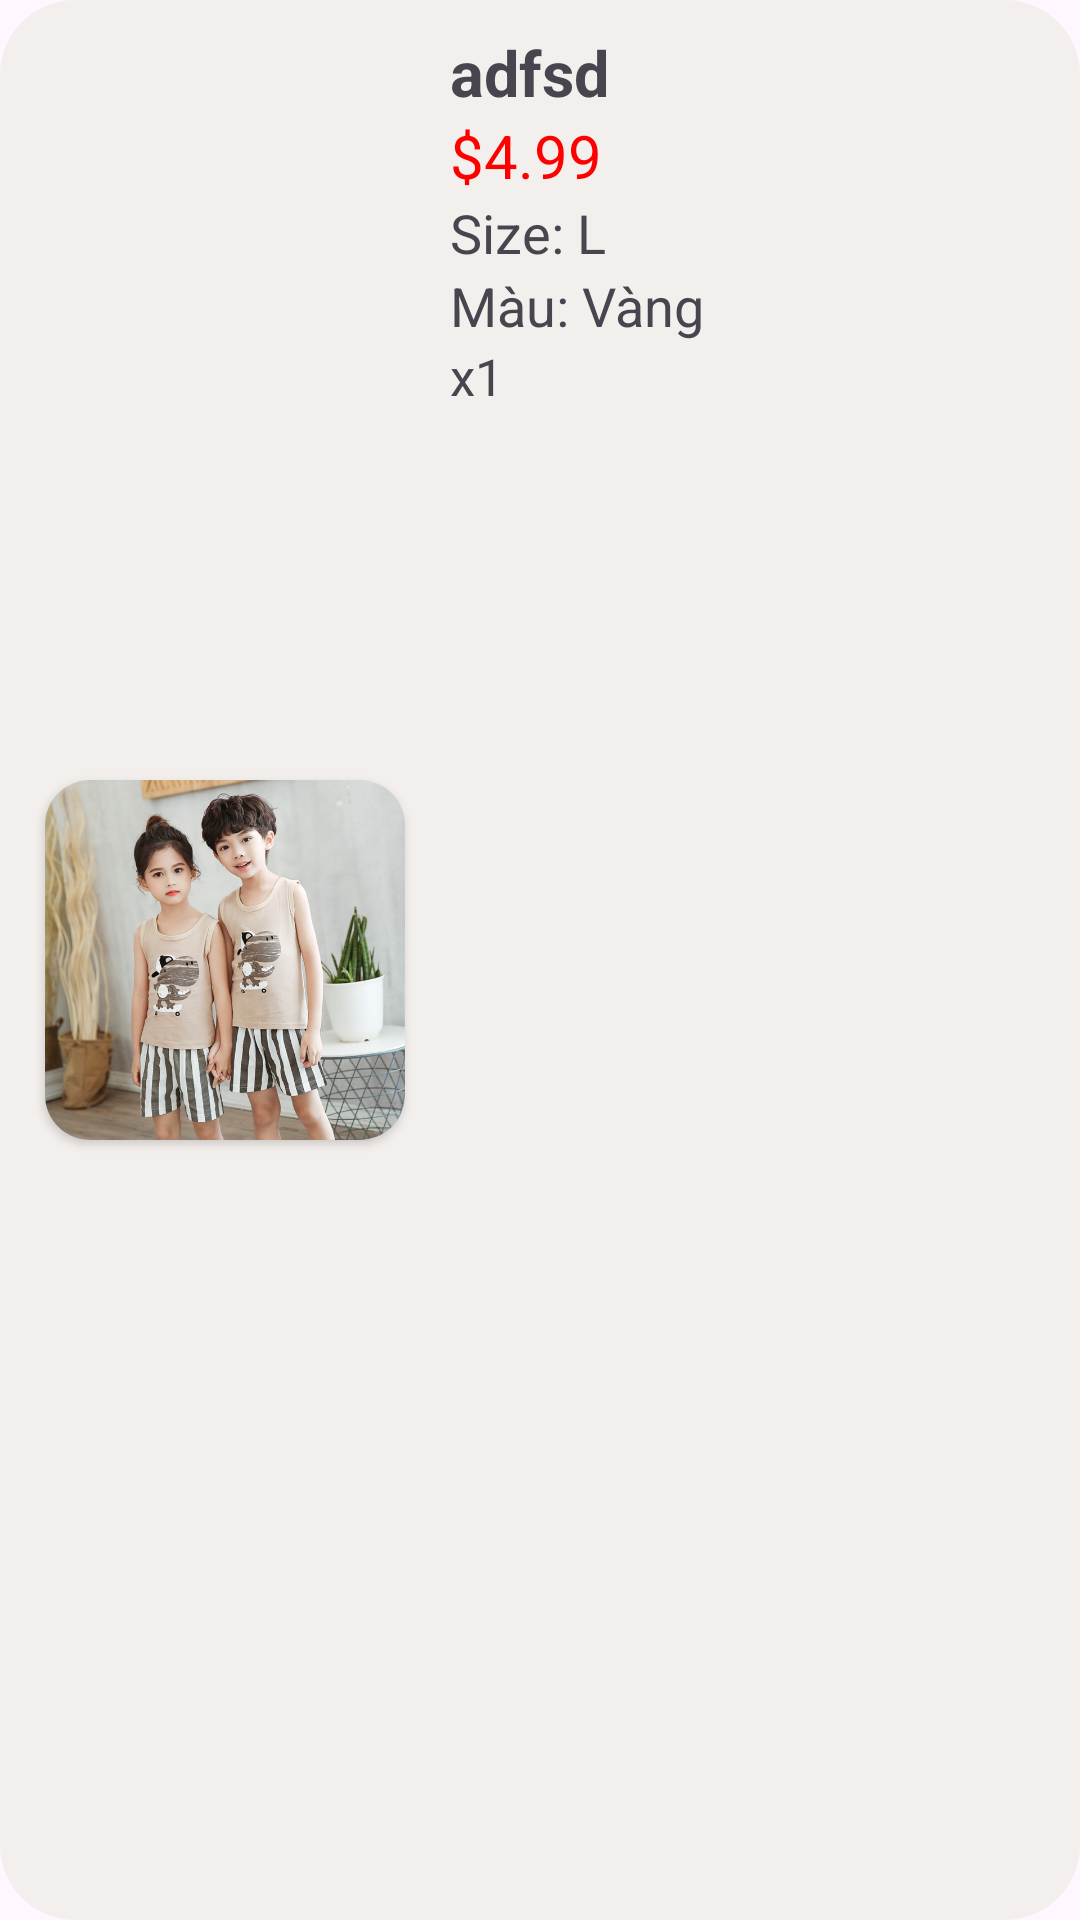

Locate icon controls on the screen. Image size 1080x1920, boxes as Rect(x1, y1, x2, y2).
product: Rect(45, 780, 405, 1140)
